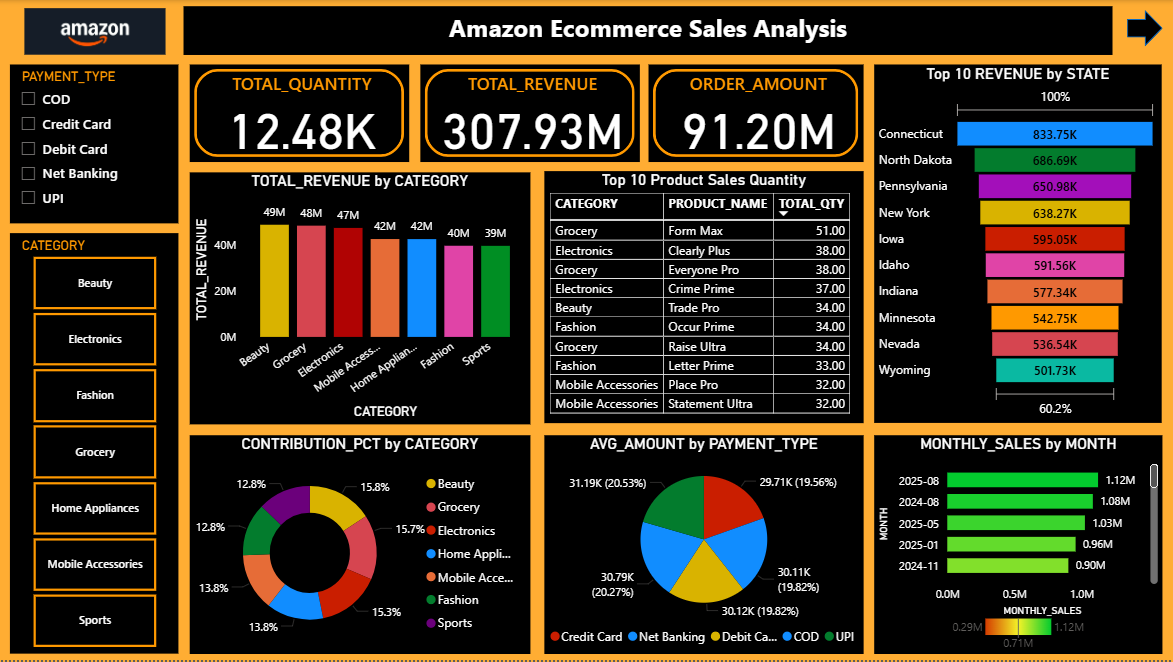

Layout of this report page (visuals, bound fields, positions):
{"tool":"powerbi","page":{"name":"Orders Table","canvas":[1280,720],"ordinal":0},"visuals":[{"type":"lineStackedColumnComboChart","fields":{"Category":["1. order table.CATEGORY"],"Y":["Sum(1. order table.TOTAL_REVENUE)"]},"box":[206.9,187.5,371.4,274.7],"z":0},{"type":"tableEx","title":"Top 10 Product Sales Quantity","fields":{"Values":["2. order table.CATEGORY","2. order table.PRODUCT_NAME","Sum(2. order table.TOTAL_QTY)"]},"box":[594.1,186.3,348.5,274.7],"z":1000},{"type":"clusteredBarChart","fields":{"Category":["3. order table.MONTH"],"Y":["Sum(3. order table.MONTHLY_SALES)"]},"box":[953.4,474.3,314.6,238.4],"z":2000},{"type":"funnel","fields":{"Category":["4. order table.STATE"],"Y":["Sum(4. order table.REVENUE)"]},"box":[953.9,70.4,313.9,391],"z":3000},{"type":"pieChart","fields":{"Category":["6. order table.PAYMENT_TYPE"],"Y":["Sum(6. order table.AVG_AMOUNT)"]},"box":[594.1,474.3,348.5,238.4],"z":4000},{"type":"donutChart","fields":{"Category":["5. order table.CATEGORY"],"Y":["Avg(5. order table.CONTRIBUTION_PCT)"]},"box":[206.9,474.3,371.4,238.4],"z":5000},{"type":"image","box":[0,3.6,206.9,60.5],"z":6000},{"type":"slicer","fields":{"Values":["1. order table.CATEGORY"]},"box":[10.9,254.1,183.9,458.6],"z":7000},{"type":"slicer","fields":{"Values":["6. order table.PAYMENT_TYPE"]},"box":[10.9,70.2,183.9,173],"z":8000},{"type":"textbox","box":[200.8,7.3,1013.9,53.2],"z":9000},{"type":"cardVisual","fields":{"Data":["Sum(Card 3.SUM(QUANTITY * PRICE))"]},"box":[458.6,70.2,239.6,106.5],"z":10000},{"type":"cardVisual","fields":{"Data":["Sum(Card 1.SUM(ORDER_AMOUNT))"]},"box":[707.8,70.2,234.7,106.5],"z":11000},{"type":"cardVisual","fields":{"Data":["Sum(Card 2.sum(quantity))"]},"box":[206.9,70.2,239.6,106.5],"z":12000},{"type":"shape","box":[1229.3,10.9,38.7,39.9],"z":12001}]}

Visuals, with their boxes in screenshot pixels (x1, y1, x2, y2), scaled from the page's 1280x720 canvas onto the 1173x662 screenshot:
lineStackedColumnComboChart - 1. order table.CATEGORY x Sum(1. order table.TOTAL_REVENUE): 190:172:530:425
"Top 10 Product Sales Quantity" tableEx: 544:171:864:424
clusteredBarChart - 3. order table.MONTH x Sum(3. order table.MONTHLY_SALES): 874:436:1162:655
funnel - 4. order table.STATE x Sum(4. order table.REVENUE): 874:65:1162:424
pieChart - 6. order table.PAYMENT_TYPE x Sum(6. order table.AVG_AMOUNT): 544:436:864:655
donutChart - 5. order table.CATEGORY x Avg(5. order table.CONTRIBUTION_PCT): 190:436:530:655
image: 0:3:190:59
slicer - 1. order table.CATEGORY: 10:234:179:655
slicer - 6. order table.PAYMENT_TYPE: 10:65:179:224
textbox: 184:7:1113:56
cardVisual - Sum(Card 3.SUM(QUANTITY * PRICE)): 420:65:640:162
cardVisual - Sum(Card 1.SUM(ORDER_AMOUNT)): 649:65:864:162
cardVisual - Sum(Card 2.sum(quantity)): 190:65:409:162
shape: 1127:10:1162:47
